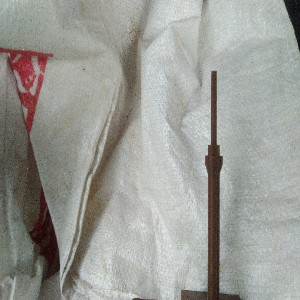obeng: (204, 70, 224, 300)
